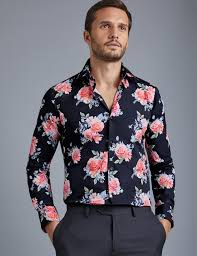Shirt: (23, 56, 193, 210)
